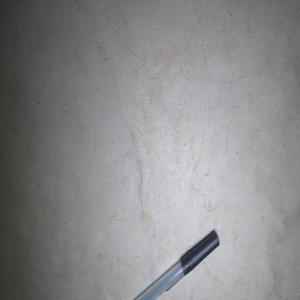Pen: (134, 230, 219, 300)
